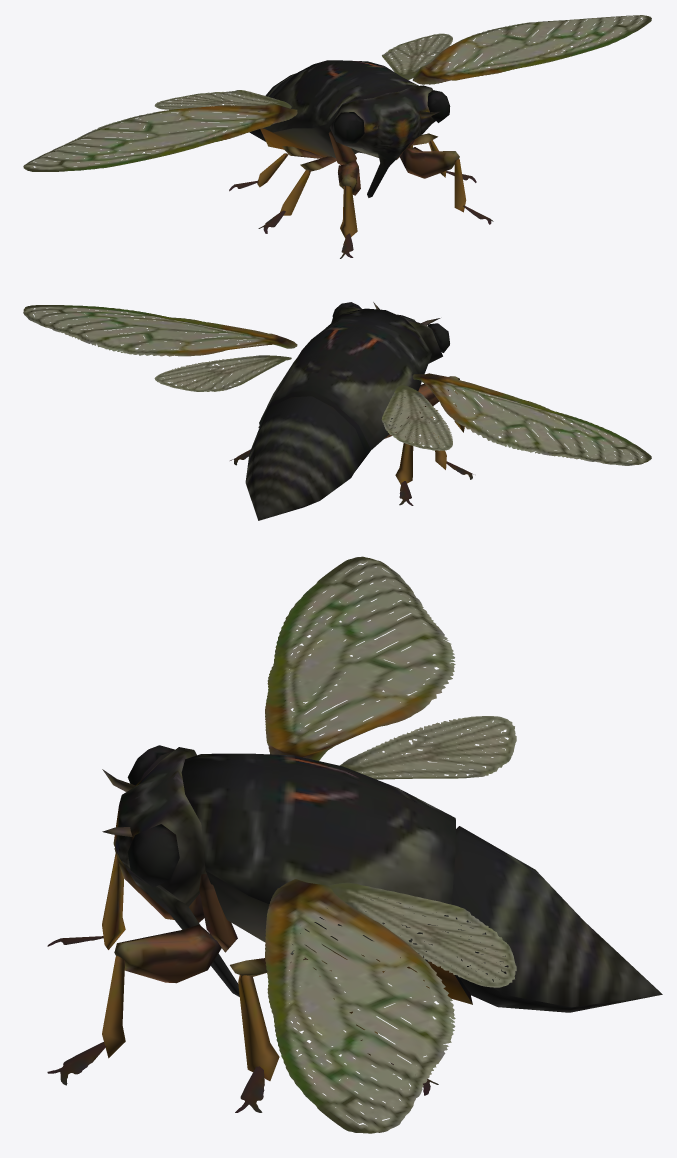
File: robust-cicada.glb
The picture shows the model from 3 angles, top to bottom: view 1: azimuth 30°, elevation 25°; view 2: azimuth 150°, elevation 25°; view 3: azimuth 270°, elevation 25°; orthographic projection. The views are drawn at different scales.
Bounding box in the file's own units: 8.26 × 1.71 × 3.81.
Materials: 2 (2 with a texture image).
